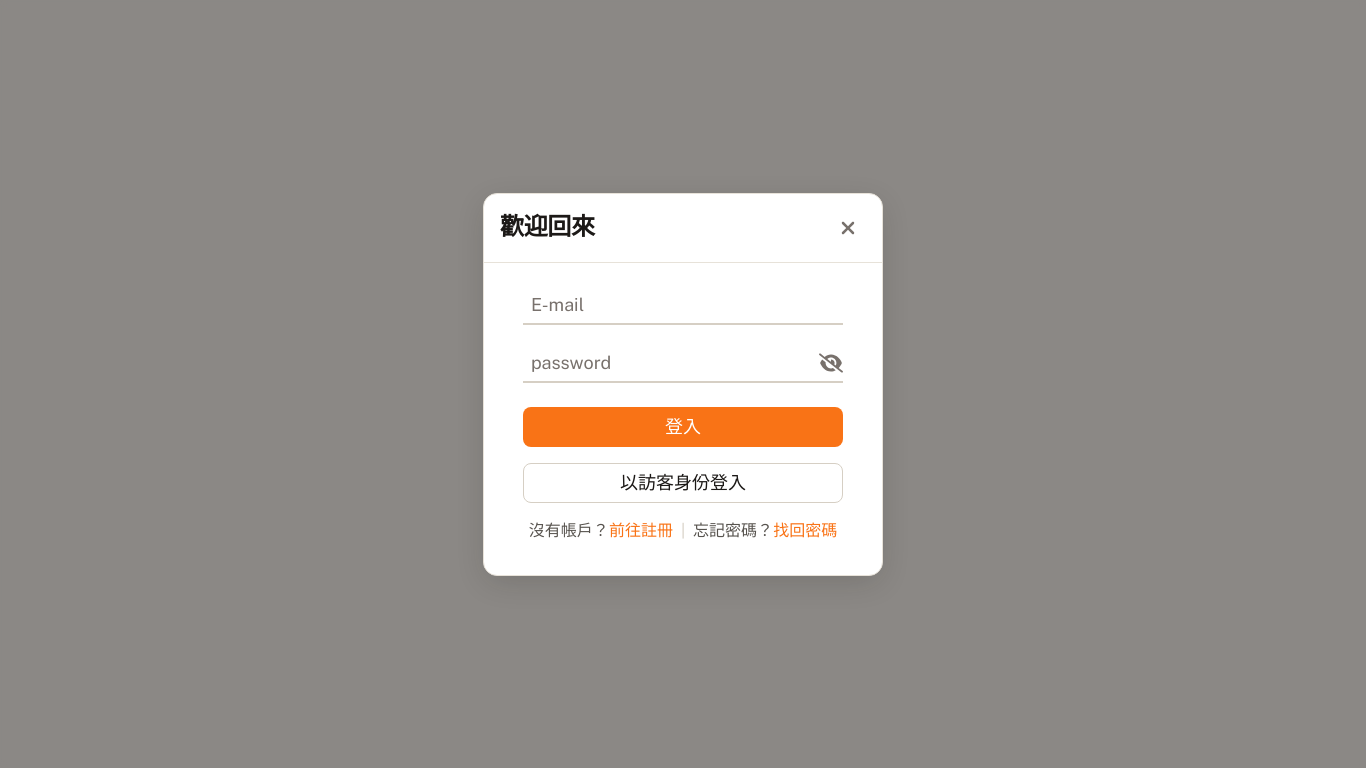
Test: 登入功能(SignIn) › 測試表單欄位必填
Step 1. Click the button "登入" → (683, 426), box top-left (523, 406), bottom-right (843, 446)
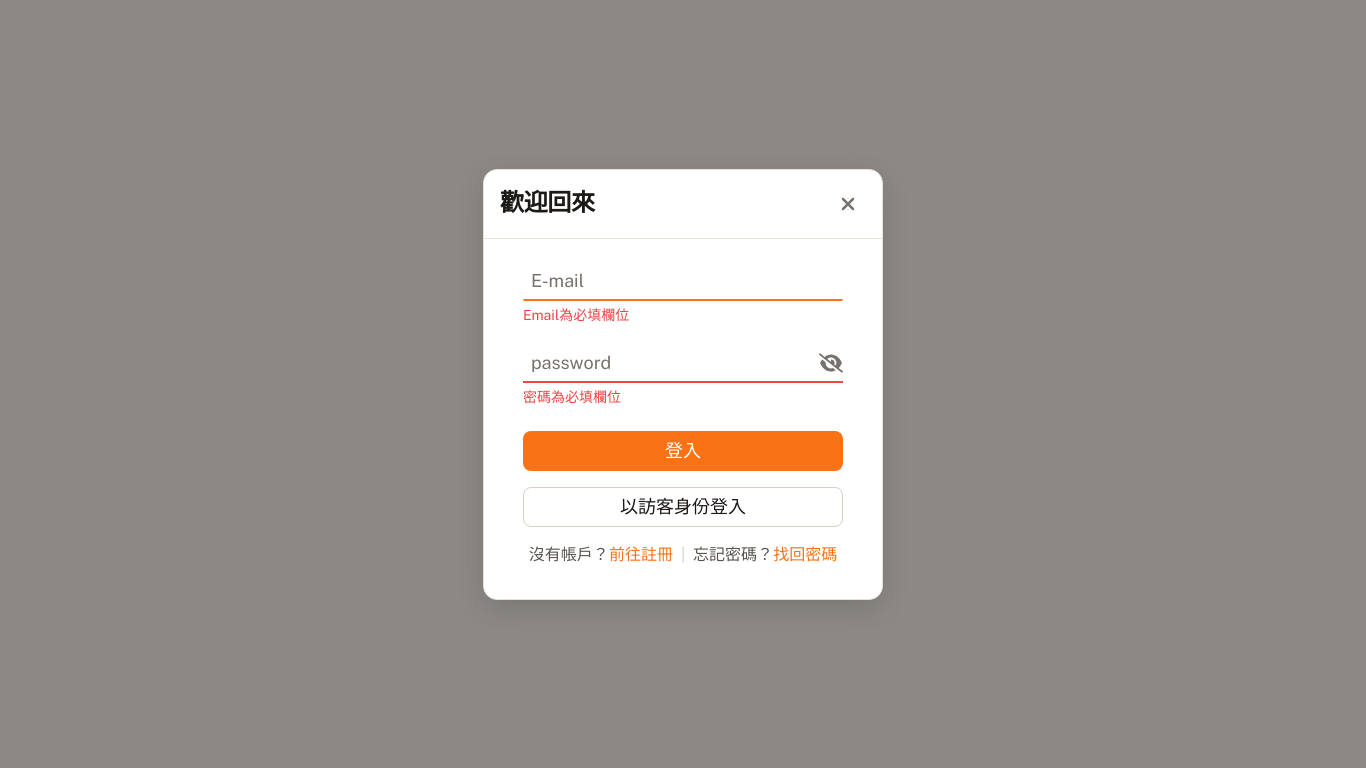
Result: the text "Email為必填欄位" is shown at top-left (523, 306), bottom-right (629, 322)
